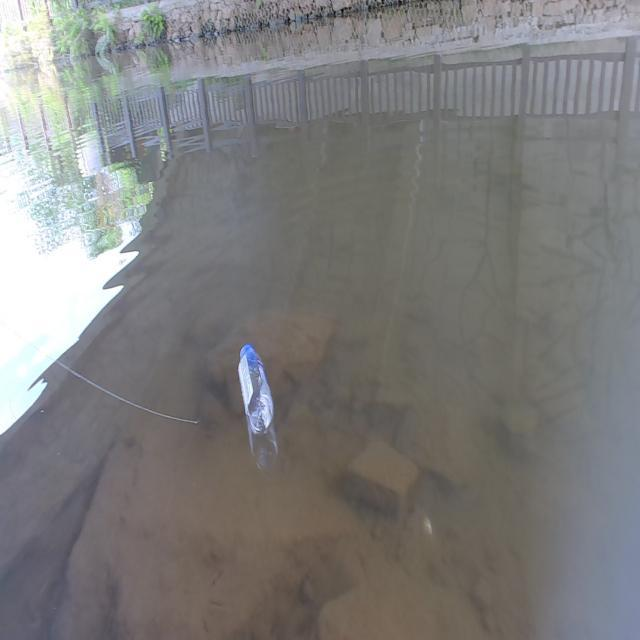bottle: (231, 341, 280, 440)
